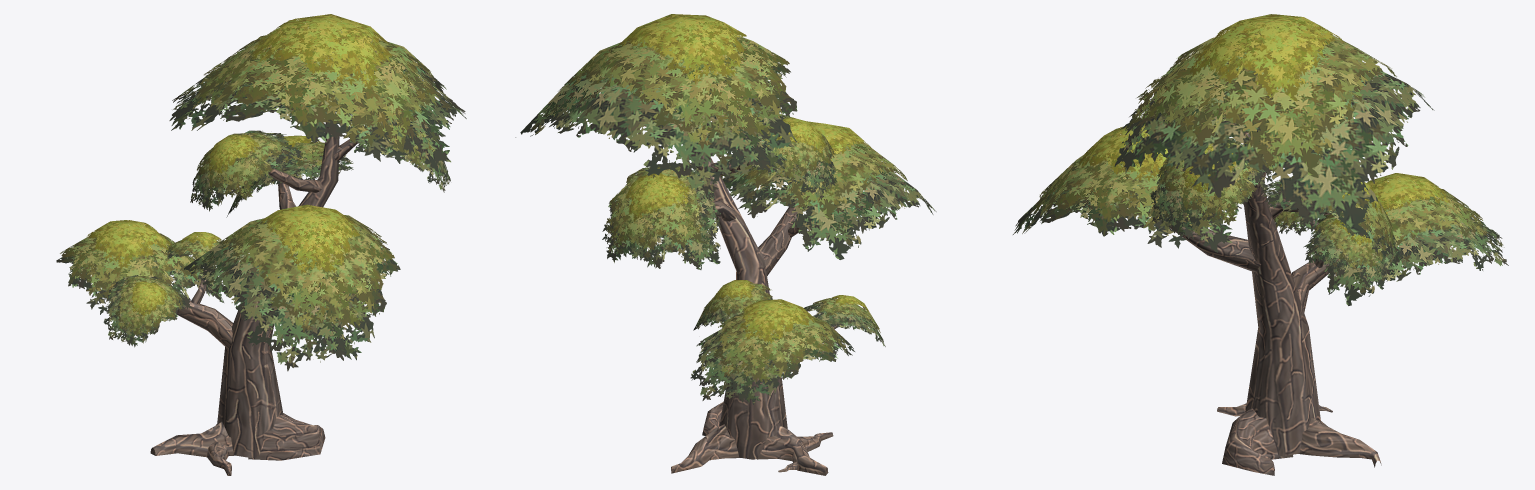
Rendered from mesh_tree_01.FBX.
3 views of the same model, side by side, from view 1: azimuth 30°, elevation 25°; view 2: azimuth 150°, elevation 25°; view 3: azimuth 270°, elevation 25° (orthographic). The views are drawn at different scales.
Visible parts, largest first — view 1: Trunk; view 2: Trunk; view 3: Trunk.
Part boxes in pixels (x1=…): Trunk: x1=56, y1=14, x2=466, y2=475; Trunk: x1=515, y1=14, x2=936, y2=475; Trunk: x1=1013, y1=14, x2=1508, y2=475.
Bounding box in the file's own units: 395 × 399 × 412.
